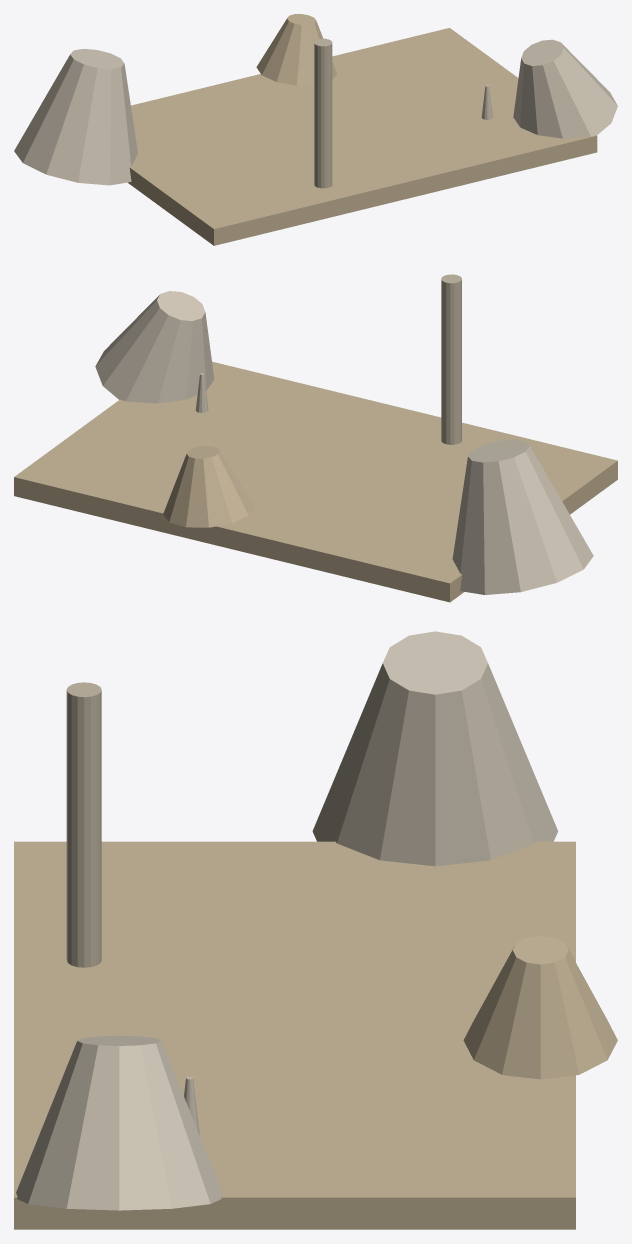
The model's file is howling-sprawl.glb.
3 views of the same model, one above another, from view 1: azimuth 30°, elevation 25°; view 2: azimuth 150°, elevation 25°; view 3: azimuth 270°, elevation 25° (orthographic). The views are drawn at different scales.
Parts seen in each view (by area): view 1: sprawl-cracked-ground, sprawl-windrock-0, sprawl-windrock-1, sprawl-windrock-2, sprawl-flank-marker; view 2: sprawl-cracked-ground, sprawl-windrock-0, sprawl-windrock-1, sprawl-windrock-2, sprawl-flank-marker; view 3: sprawl-cracked-ground, sprawl-windrock-0, sprawl-windrock-1, sprawl-windrock-2, sprawl-flank-marker.
Boxes of the visible parts, x1,y1,x2,y2 form: sprawl-cracked-ground: (128,28,597,245); sprawl-windrock-0: (14,49,137,185); sprawl-windrock-1: (513,39,617,138); sprawl-windrock-2: (256,14,336,85); sprawl-flank-marker: (314,38,332,188); sprawl-cracked-ground: (14,361,617,602); sprawl-windrock-0: (452,439,593,594); sprawl-windrock-1: (95,291,214,403); sprawl-windrock-2: (163,446,254,527); sprawl-flank-marker: (441,274,461,444); sprawl-cracked-ground: (14,841,575,1229); sprawl-windrock-0: (312,631,558,866); sprawl-windrock-1: (16,1035,222,1210); sprawl-windrock-2: (463,935,617,1079); sprawl-flank-marker: (66,682,101,967).
Size of the model in its own units: 3.16 by 0.9662 by 1.72.
